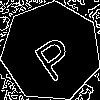P: (26, 27, 79, 84)
